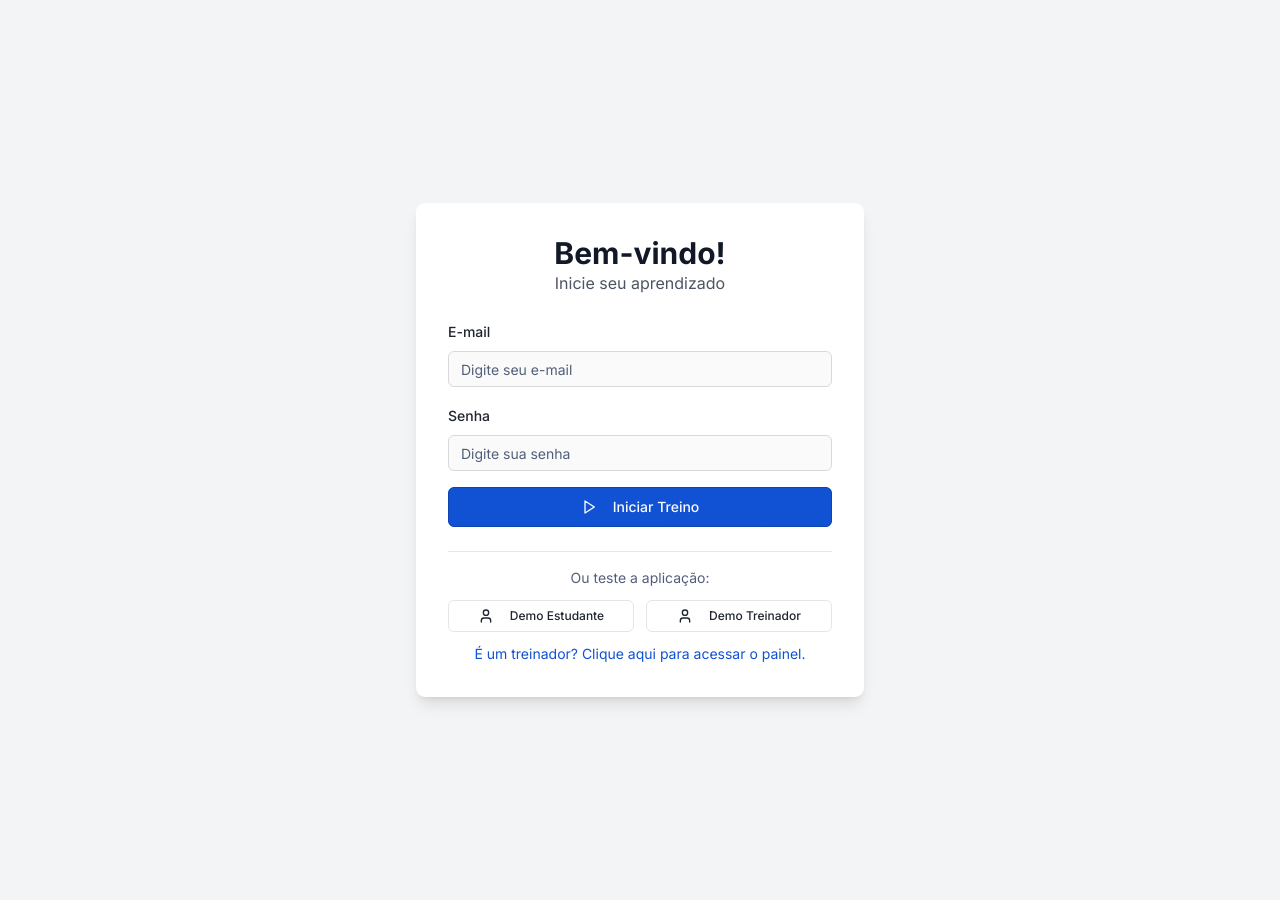
Test case: Athletica Pro App › allows demo trainer login
The image size is (1280, 900).
Click the button with test id "button-demo-trainer": (739, 616) [646,600,832,632]
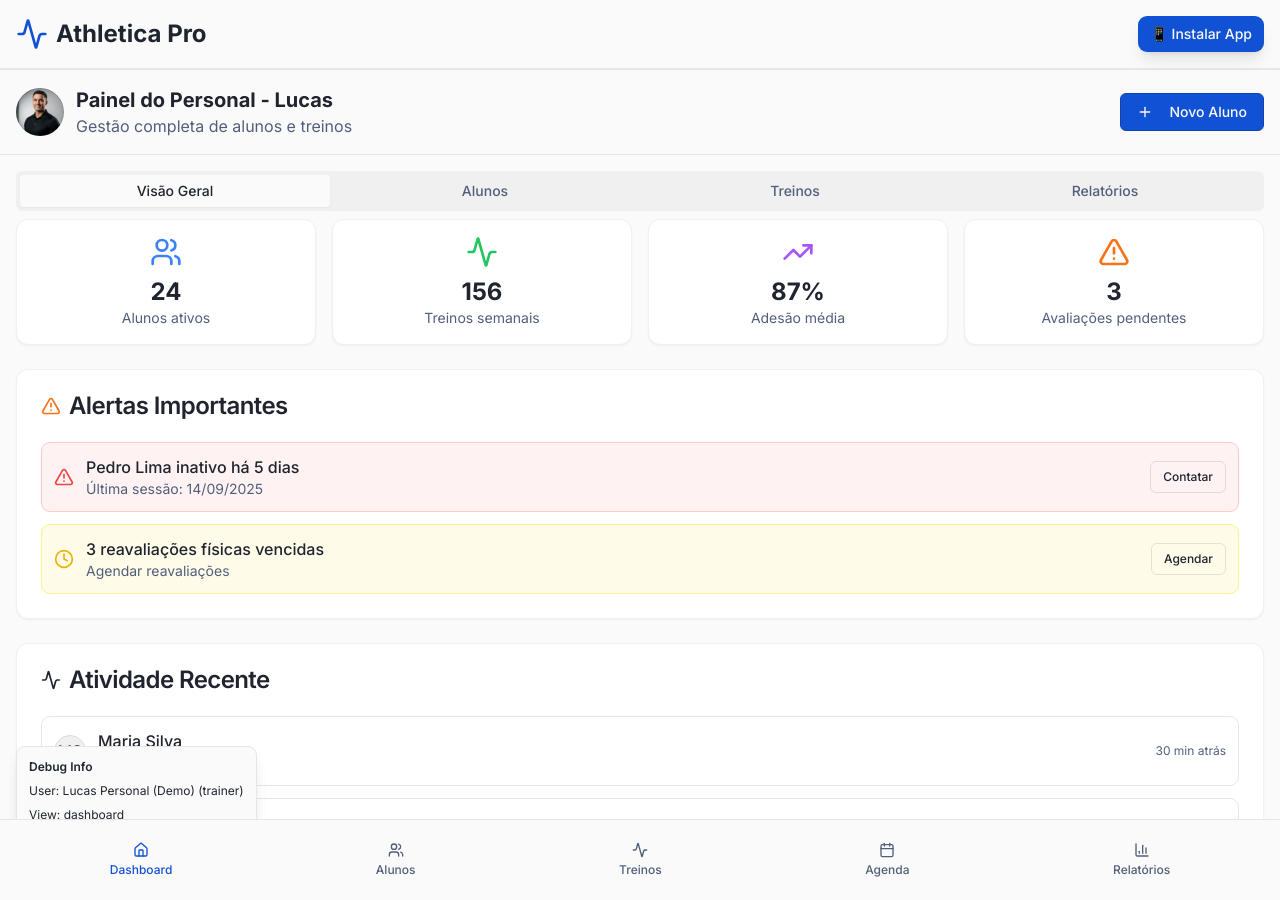
Expected: the text "User: Lucas Personal (Demo) (trainer)" is shown, [29,783,244,799]
